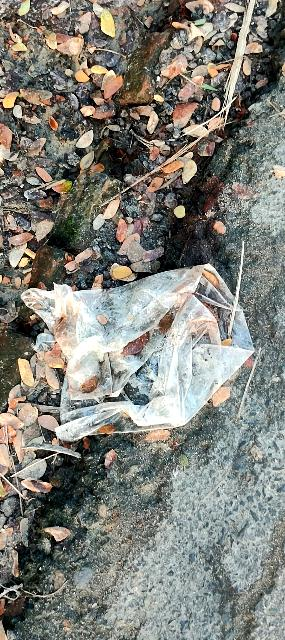polythene: (13, 251, 270, 451)
